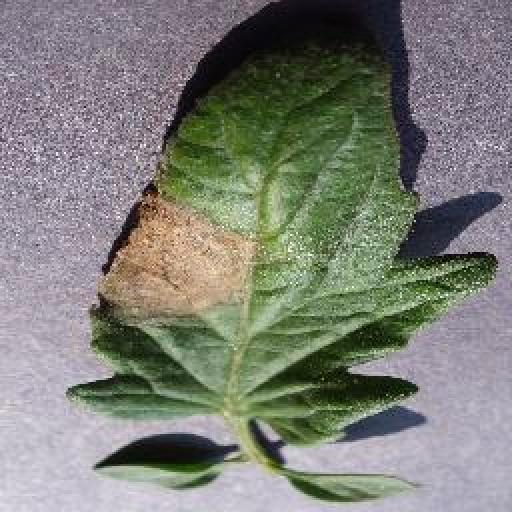disease_tomato: (65, 34, 499, 446)
